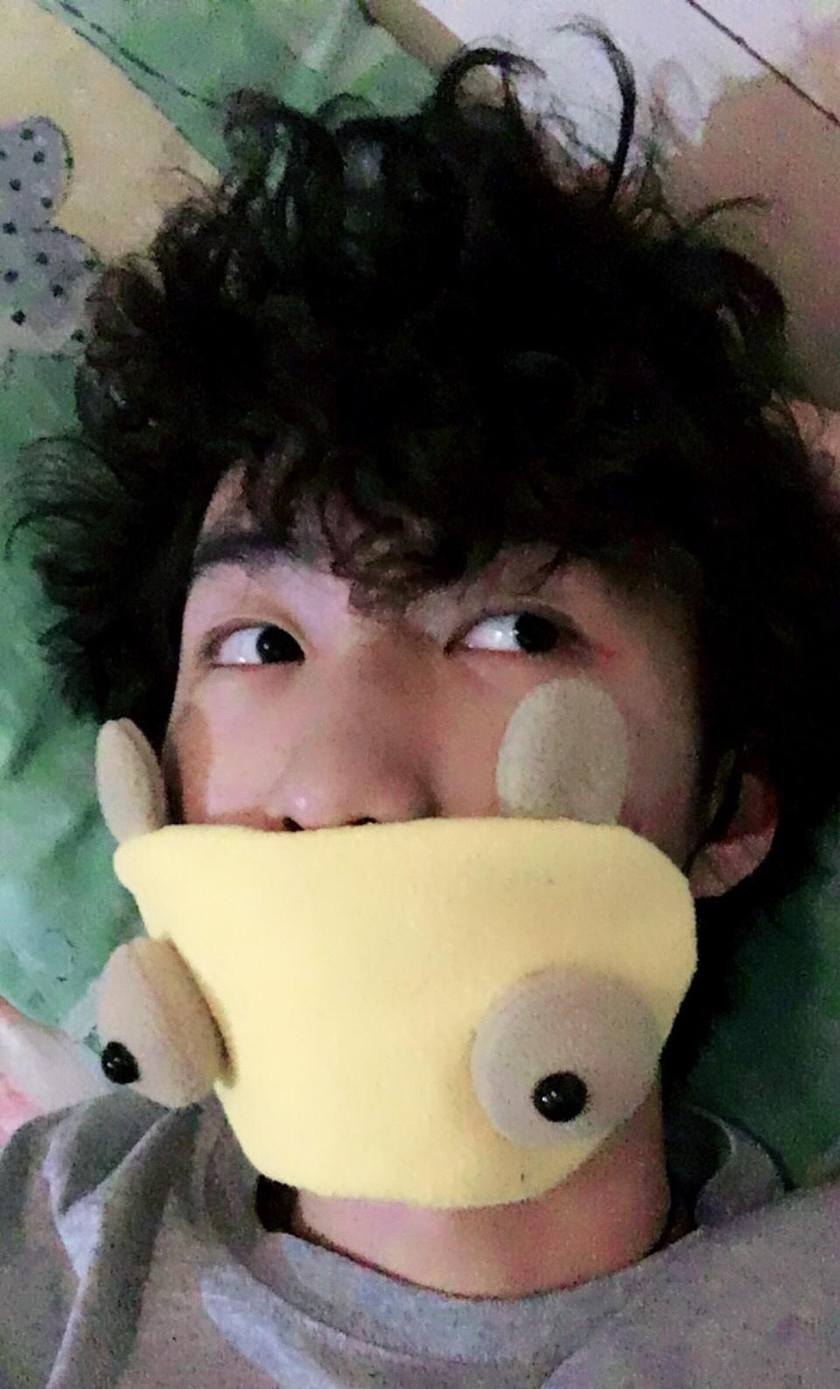WRONG: (116, 516, 715, 1135)
